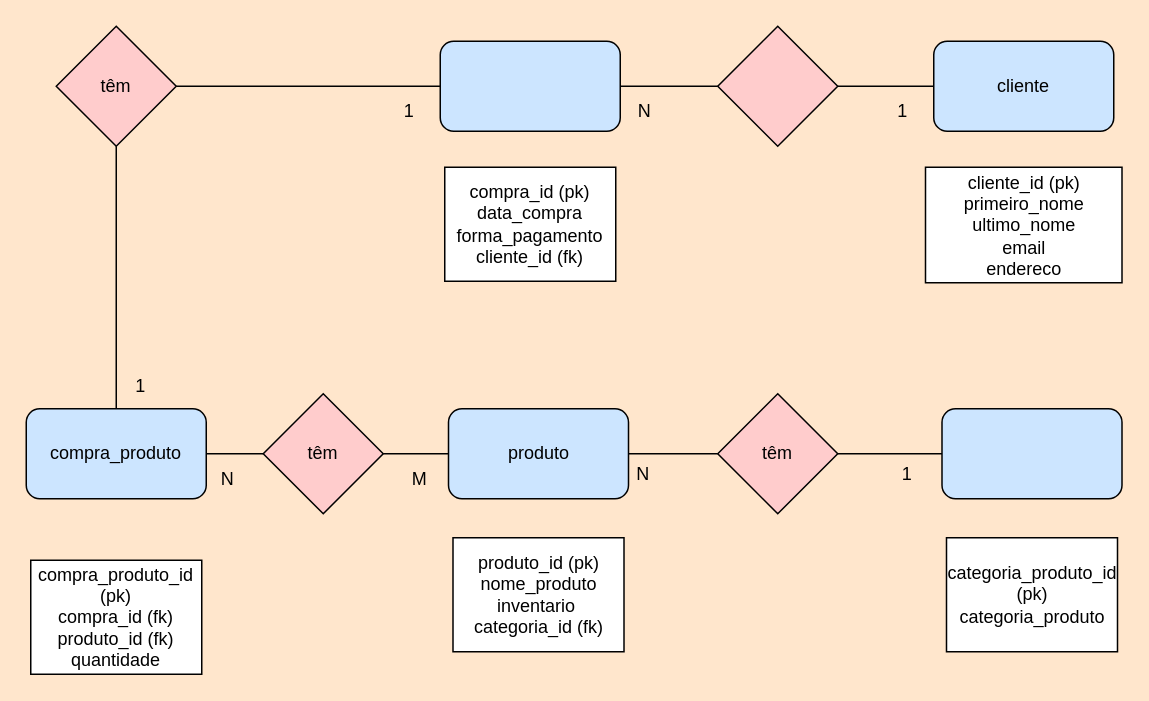
Image size: 1149x701. Some labels were removed from this diagram. The shapes that lost their labels are listed below. From the top down, each one's centre as x and y in pixels, then its label:
At (529,85): "compra".
At (777,85): "pode".
At (1031,453): "categoria_produto".
